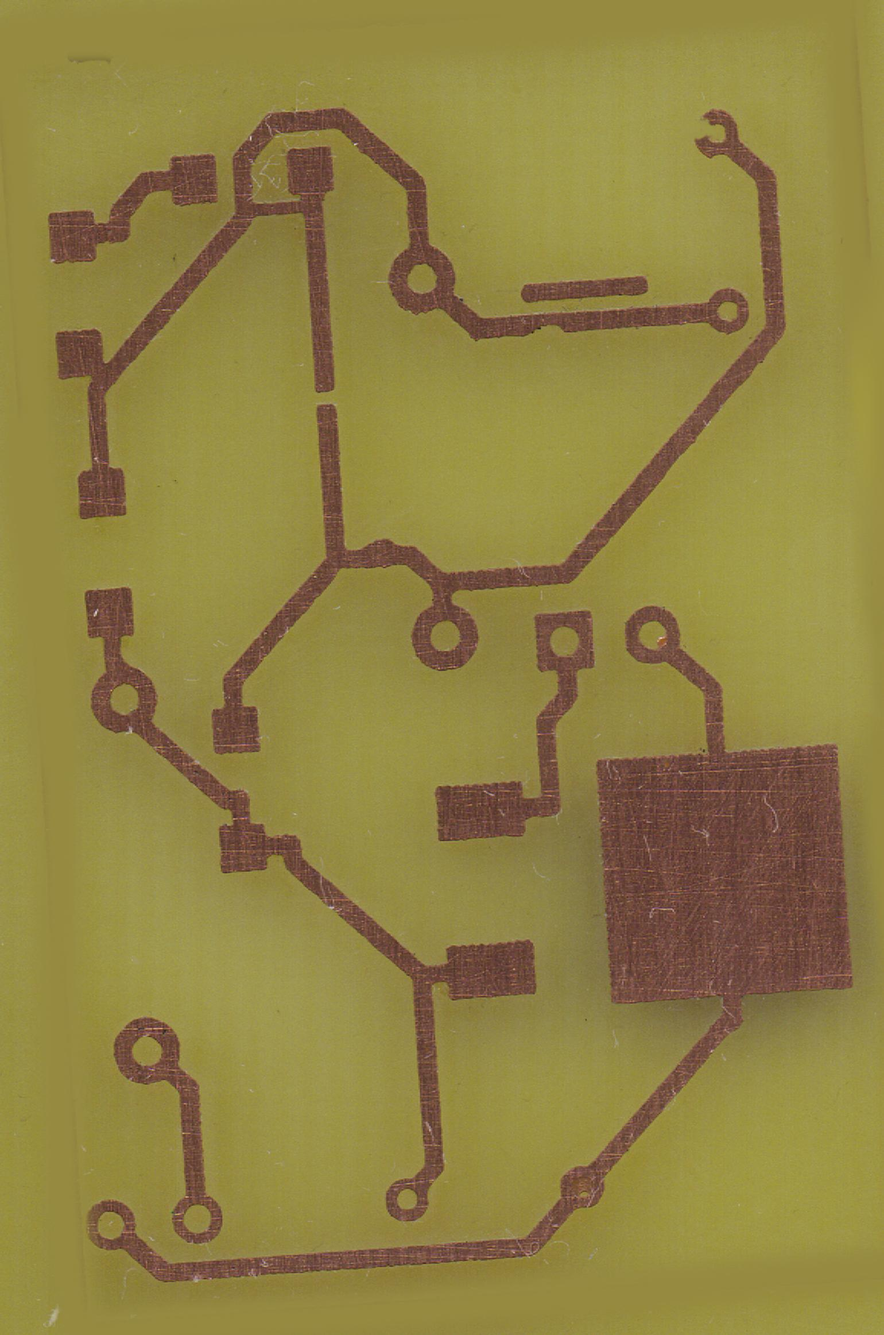missing_hole: (695, 107, 739, 159)
mouse_bite: (526, 312, 567, 338)
open_circuit: (315, 382, 337, 414)
short: (235, 191, 316, 226)
spur: (359, 537, 398, 570)
spurious_copper: (519, 275, 650, 304)
